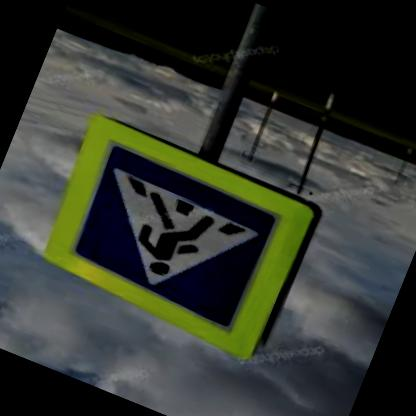crosswalk: (66, 146, 283, 334)
